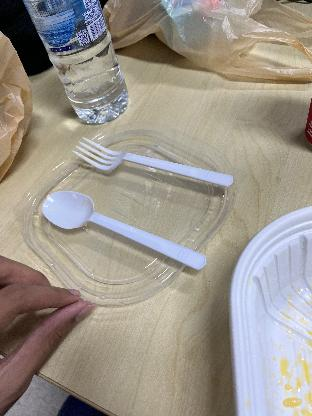Others: (43, 179, 209, 283), (77, 134, 237, 194)
Plastic Bottle: (36, 0, 130, 130)
